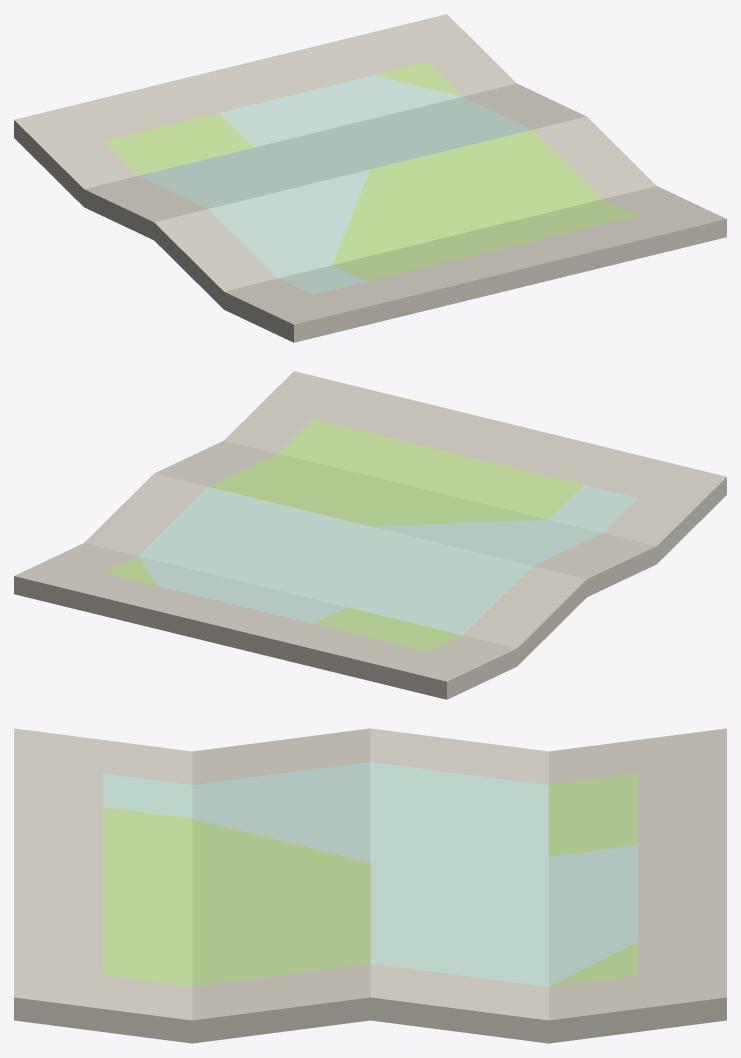
Rendered from Map.fbx.
3 renders of one model, top to bottom at view 1: azimuth 30°, elevation 25°; view 2: azimuth 150°, elevation 25°; view 3: azimuth 270°, elevation 25°, orthographic. The views are drawn at different scales.
Visible parts, largest first — view 1: Map; view 2: Map; view 3: Map.
Part boxes in pixels (x1,y1,x2,y2): Map: [14, 14, 726, 342]; Map: [14, 371, 726, 699]; Map: [14, 728, 726, 1043].
Bounding box in the file's own units: 0.25 × 0.02 × 0.28.
